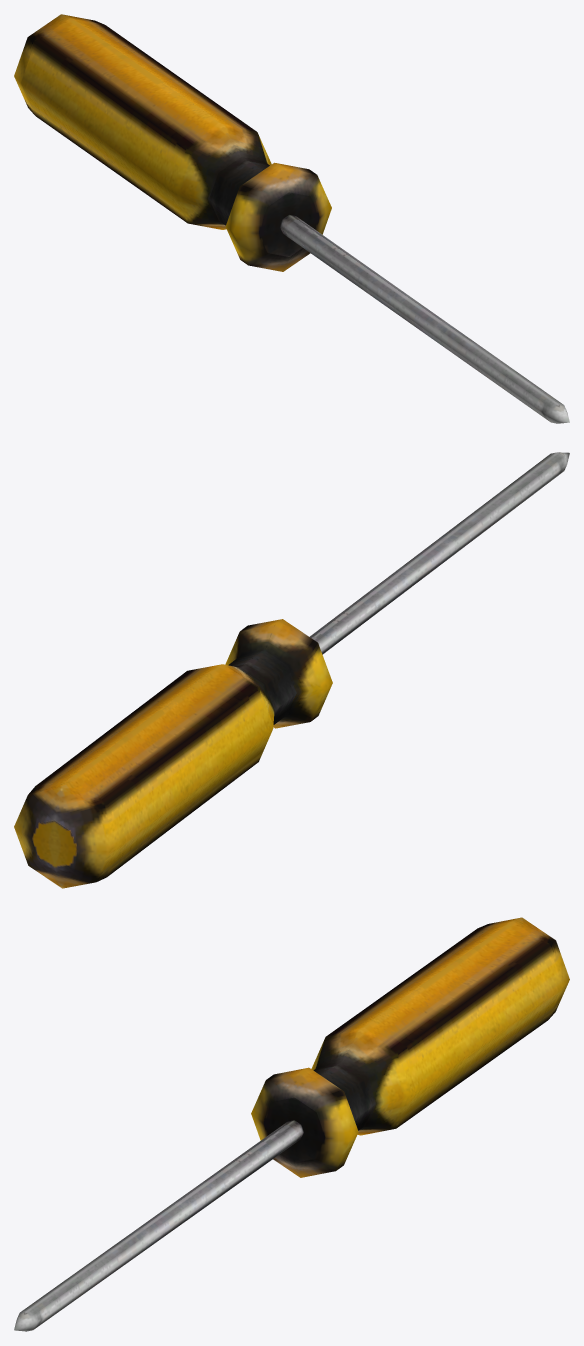
The model's file is screwdriver.glb.
3 views of the same model, one above another, from view 1: azimuth 30°, elevation 25°; view 2: azimuth 150°, elevation 25°; view 3: azimuth 330°, elevation 25° (orthographic).
Parts seen in each view (by area): view 1: screwdriver; view 2: screwdriver; view 3: screwdriver.
Part boxes in pixels (x1,y1,x2,y2): screwdriver: (14,14,569,423); screwdriver: (14,452,569,888); screwdriver: (14,917,569,1331).
Bounding box in the file's own units: 0.037 × 0.0382 × 0.3278.
Materials: 1 (1 with a texture image).
